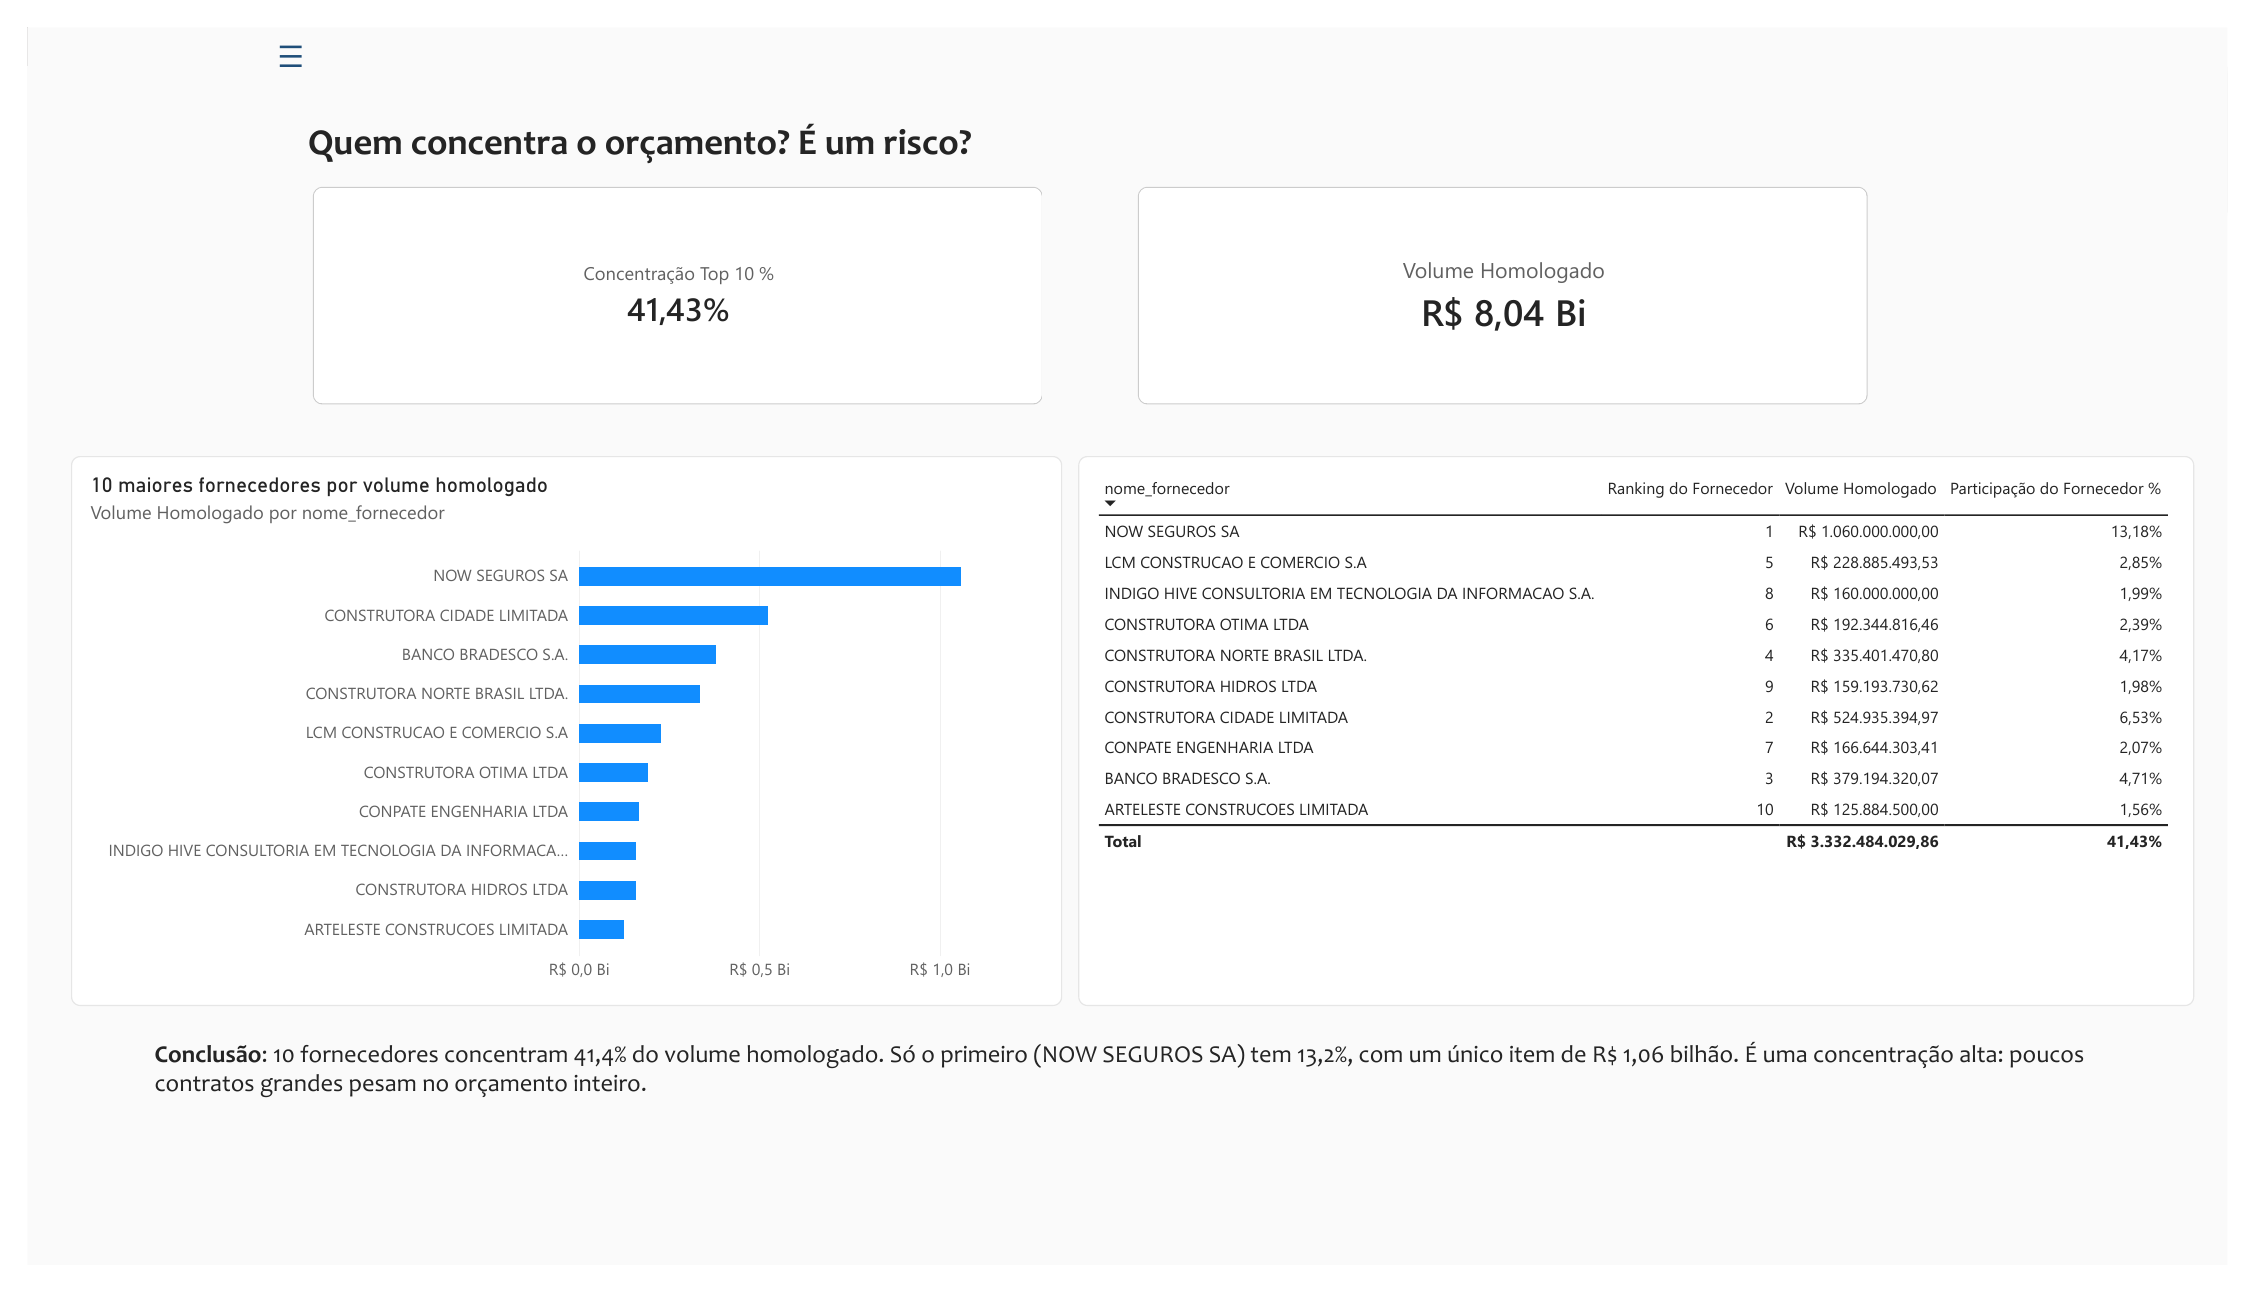

This screenshot's page, from the dashboard's own definition file:
{"tool":"powerbi","page":{"name":"P2 Fornecedores","canvas":[1920,1080],"ordinal":1},"visuals":[{"type":"textbox","box":[238.3,80.6,637.7,65.1],"z":0},{"type":"cardVisual","fields":{"Data":["Medidas.Concentração Top 10 %"]},"box":[248.6,138.9,637.7,190.3],"z":1000},{"type":"cardVisual","fields":{"Data":["Medidas.Volume Homologado"]},"box":[968.6,138.9,637.7,190.3],"z":2000},{"type":"textbox","box":[111.4,882.9,1695.4,101.1],"z":3000},{"type":"clusteredBarChart","title":"10 maiores fornecedores por volume homologado","fields":{"Category":["dim_fornecedor.nome_fornecedor"],"Y":["Medidas.Volume Homologado"]},"box":[37.6,373.9,865.7,480],"z":4000},{"type":"tableEx","fields":{"Values":["dim_fornecedor.nome_fornecedor","Medidas.Ranking do Fornecedor","Medidas.Volume Homologado","Medidas.Participação do Fornecedor %"]},"box":[917,373.9,973.7,480],"z":5000},{"type":"actionButton","title":"Botao abrir","box":[200.6,0,58.3,39.4],"z":6000}]}

Visuals, with their boxes in screenshot pixels (x1, y1, x2, y2), scaled from the page's 1920x1080 canvas onto the 2255x1293 screenshot:
textbox: box=[280, 96, 1029, 174]
cardVisual - Medidas.Concentração Top 10 %: box=[292, 166, 1041, 394]
cardVisual - Medidas.Volume Homologado: box=[1138, 166, 1887, 394]
textbox: box=[131, 1057, 2122, 1178]
"10 maiores fornecedores por volume homologado" clusteredBarChart: box=[44, 448, 1061, 1022]
tableEx - dim_fornecedor.nome_fornecedor x Medidas.Ranking do Fornecedor: box=[1077, 448, 2221, 1022]
"Botao abrir" actionButton: box=[236, 0, 304, 47]
